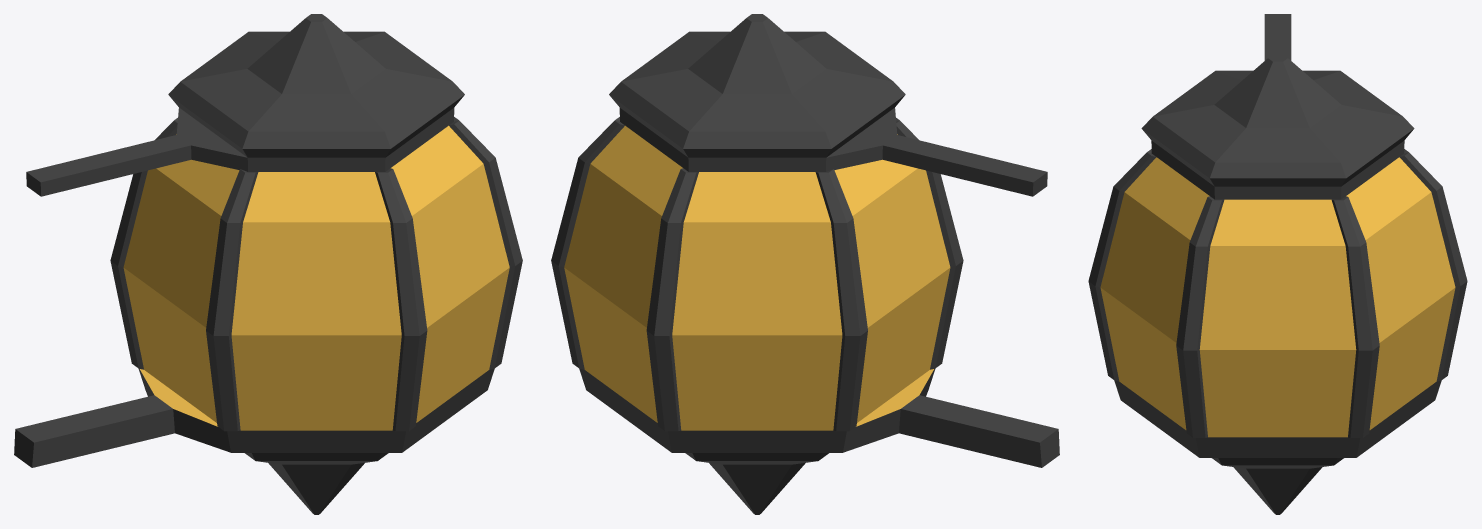
Rendered from Shop_lantern.fbx.
3 views of the same model, side by side, from view 1: azimuth 30°, elevation 25°; view 2: azimuth 150°, elevation 25°; view 3: azimuth 270°, elevation 25° (orthographic). The views are drawn at different scales.
Visible parts, largest first — view 1: Lantern; view 2: Lantern; view 3: Lantern.
Boxes of the visible parts, bbox=[...] form: Lantern: bbox=[14, 14, 522, 514]; Lantern: bbox=[551, 14, 1059, 514]; Lantern: bbox=[1088, 14, 1467, 514].
Bounding box in the file's own units: 48.31 × 51.03 × 38.49.
